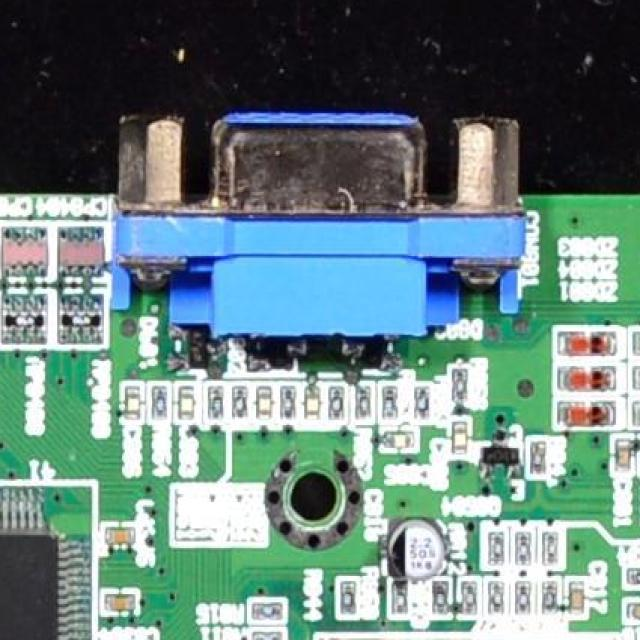IC: (0, 479, 99, 640), (314, 635, 624, 640)
capacitor: (258, 384, 282, 433), (174, 384, 200, 426), (303, 382, 326, 426), (100, 592, 136, 620), (124, 382, 150, 420), (104, 520, 139, 548), (448, 422, 472, 459), (378, 430, 419, 451), (568, 581, 590, 612), (616, 438, 631, 476), (625, 602, 640, 619)
resistor: (509, 520, 537, 573), (535, 524, 565, 572), (450, 354, 474, 408), (325, 382, 351, 426), (540, 568, 562, 620), (511, 574, 534, 620), (483, 525, 503, 576), (486, 578, 510, 618), (430, 578, 454, 616), (527, 432, 549, 473), (388, 581, 415, 613), (411, 386, 435, 421), (337, 576, 357, 616), (460, 579, 480, 618), (248, 600, 282, 618), (378, 384, 399, 413), (235, 381, 248, 418), (249, 627, 286, 640), (212, 386, 223, 418), (356, 381, 366, 412), (625, 568, 640, 587)
